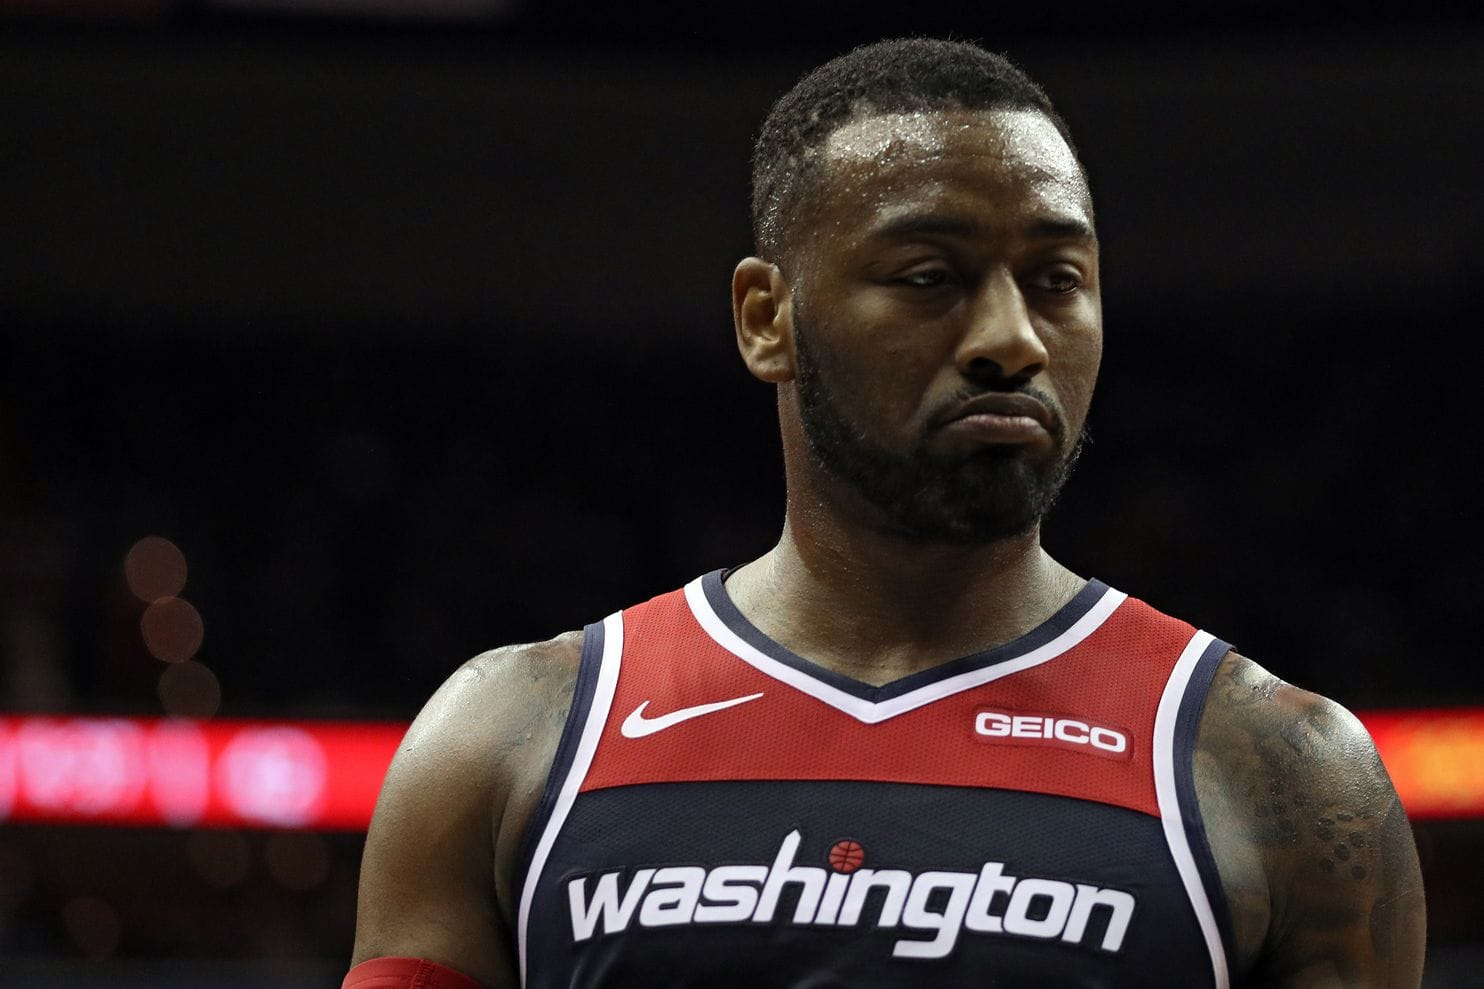Geico: (970, 708, 1144, 762)
